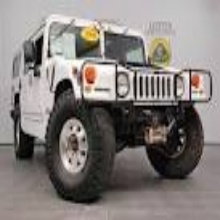no damage: (10, 15, 212, 198)
